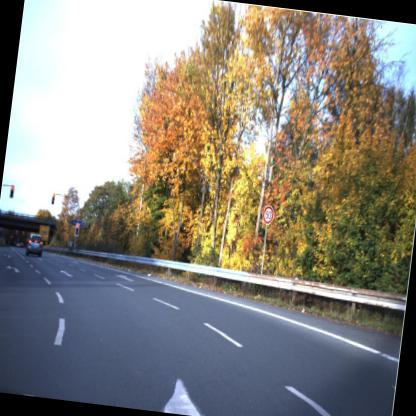prohibitory: (258, 204, 276, 227)
